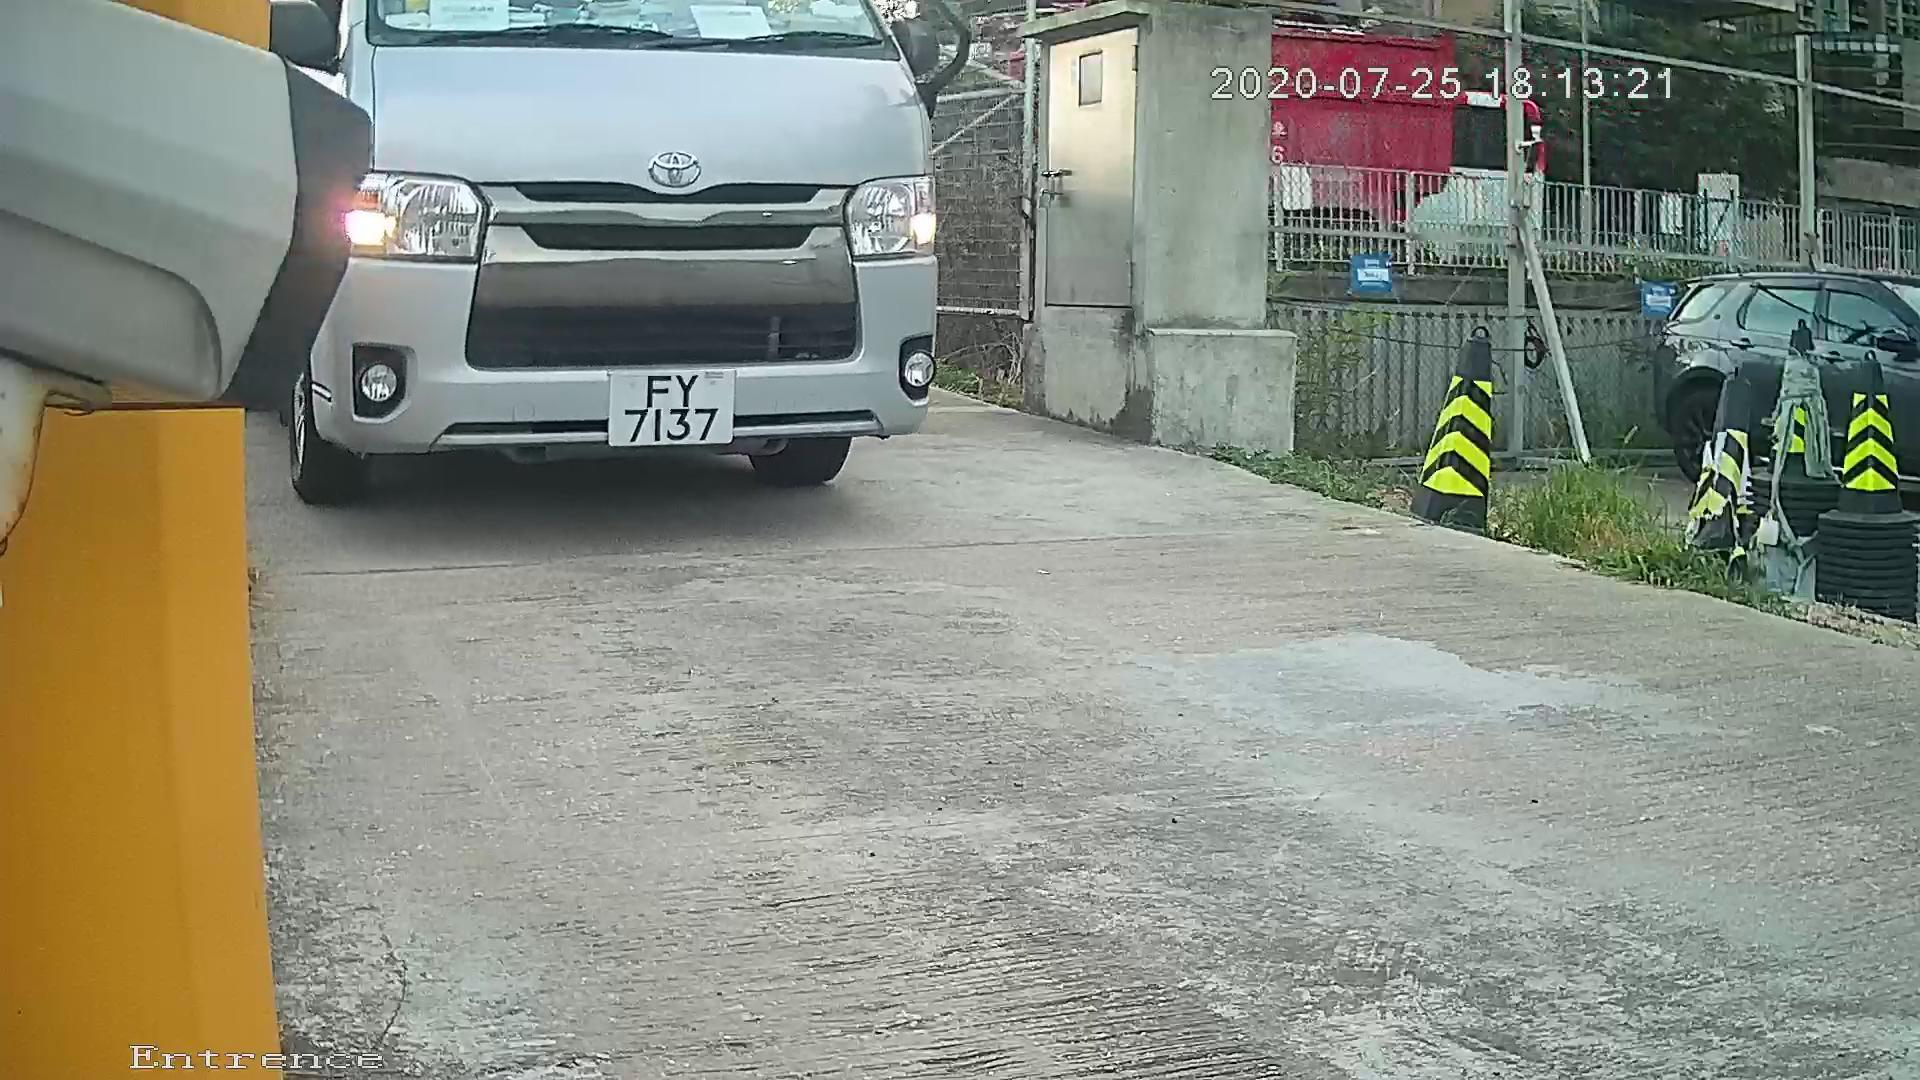privatecar: (241, 5, 1038, 526)
